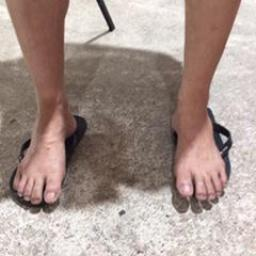Front View -Both Feet-: (8, 46, 236, 216)
